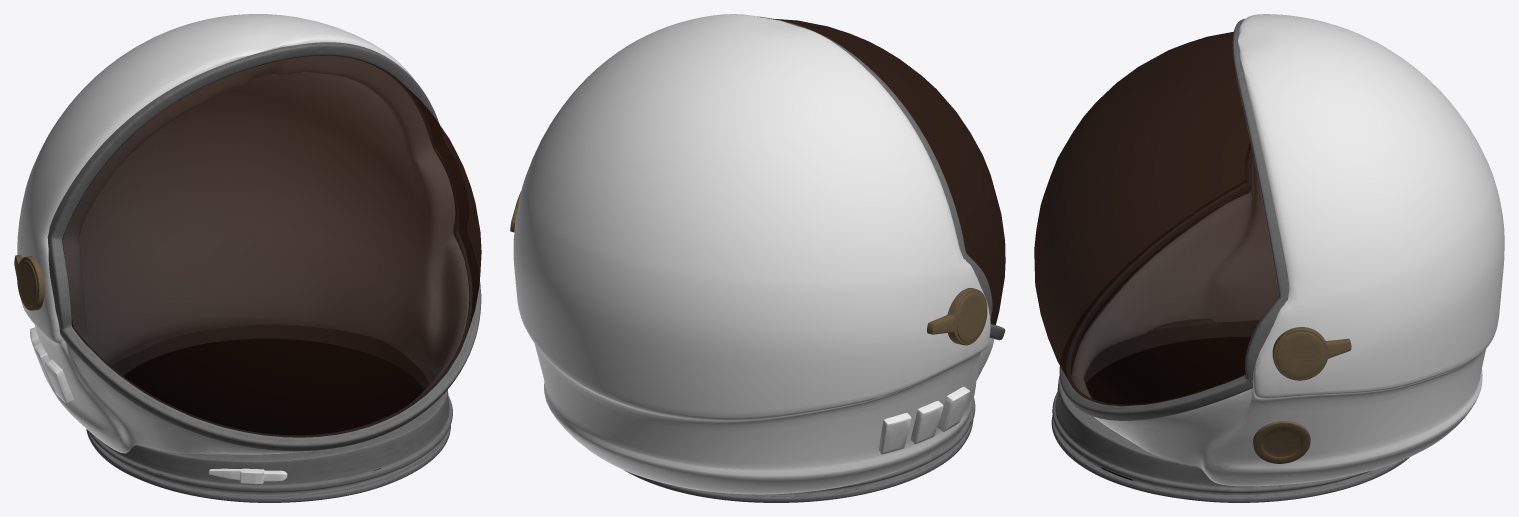
File: astronaut-helmet.glb
3 views of the same model, side by side, from view 1: azimuth 30°, elevation 25°; view 2: azimuth 150°, elevation 25°; view 3: azimuth 270°, elevation 25° (orthographic). The views are drawn at different scales.
Visible parts, largest first — view 1: Visor.001, Helmet .001, Coupling.001, Partition.001, Helmet - metal.001, Attachment.001, Accessory - side.001, Accessory.001; view 2: Helmet .001, Visor.001, Coupling.001, Accessory - side.001, Attachment.001, Helmet - metal.001; view 3: Helmet .001, Visor.001, Coupling.001, Helmet - metal.001, Partition.001, Attachment.001, Port.001.
Boxes of the visible parts, left/top/right/bottom form: Visor.001: left=62, top=55, right=481, bottom=437; Helmet .001: left=17, top=14, right=468, bottom=454; Coupling.001: left=86, top=325, right=452, bottom=502; Partition.001: left=124, top=339, right=423, bottom=434; Helmet - metal.001: left=47, top=42, right=481, bottom=451; Attachment.001: left=14, top=254, right=44, bottom=310; Accessory - side.001: left=30, top=327, right=74, bottom=403; Accessory.001: left=208, top=468, right=287, bottom=483; Helmet .001: left=513, top=14, right=993, bottom=494; Visor.001: left=773, top=18, right=1005, bottom=324; Coupling.001: left=624, top=398, right=975, bottom=502; Accessory - side.001: left=878, top=386, right=970, bottom=454; Attachment.001: left=510, top=191, right=987, bottom=345; Helmet - metal.001: left=757, top=16, right=1005, bottom=340; Helmet .001: left=1072, top=14, right=1504, bottom=486; Visor.001: left=1034, top=31, right=1278, bottom=406; Coupling.001: left=1051, top=319, right=1409, bottom=502; Helmet - metal.001: left=1059, top=18, right=1289, bottom=420; Partition.001: left=1086, top=337, right=1250, bottom=404; Attachment.001: left=1272, top=327, right=1351, bottom=380; Port.001: left=1253, top=421, right=1310, bottom=463.
Size of the model in its own units: 1.1 by 0.9339 by 1.02.
Materials: 5 (3 with a texture image).
